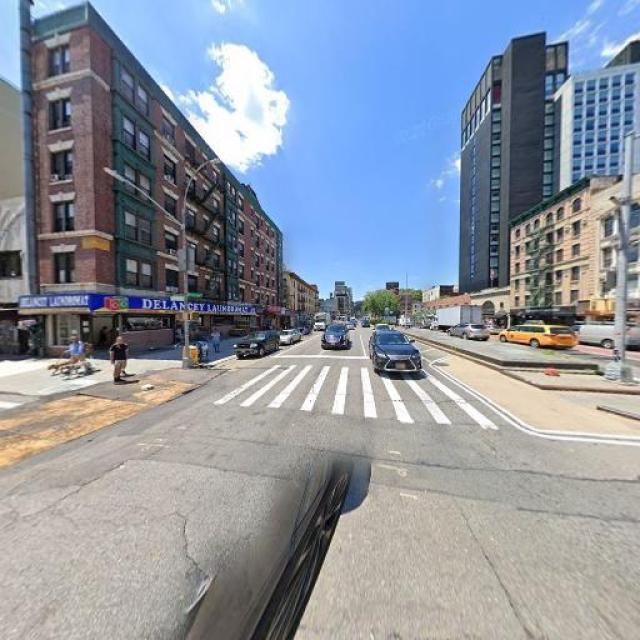Building: (33, 15, 284, 357), (512, 185, 585, 335), (592, 169, 640, 338), (1, 199, 24, 355)
